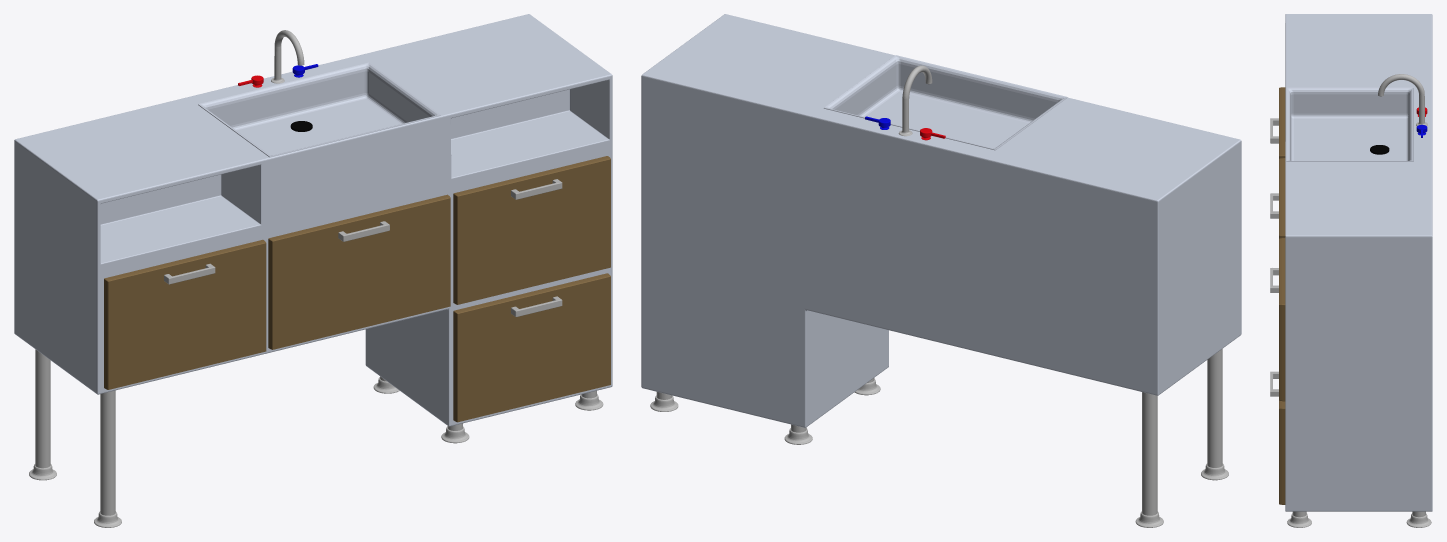
File: DishCounter 1.fbx
3 views of the same model, side by side, from view 1: azimuth 30°, elevation 25°; view 2: azimuth 150°, elevation 25°; view 3: azimuth 270°, elevation 25° (orthographic). The views are drawn at different scales.
Visible parts, largest first — view 1: GEO_Counter_base_001, GEO_Counter_Drawer_003, GEO_Counter_Drawer_004, GEO_Counter_Drawer_005, GEO_Counter_Drawer_001, GEO_Counter_leg_001, GEO_Counter_leg_002, GEO_Counter_Sink_001; view 2: GEO_Counter_base_001, GEO_Counter_leg_002, GEO_Counter_leg_001, GEO_Counter_Sink_001; view 3: GEO_Counter_base_001, GEO_Counter_Drawer_005, GEO_Counter_Drawer_001, GEO_Counter_Sink_001, GEO_Counter_Drawer_003, GEO_Counter_Drawer_004, GEO_Counter_leg_004, GEO_Counter_leg_006.
Boxes of the visible parts, x1=… form: GEO_Counter_base_001: x1=14, y1=14, x2=612, y2=426; GEO_Counter_Drawer_003: x1=268, y1=194, x2=450, y2=349; GEO_Counter_Drawer_004: x1=104, y1=239, x2=266, y2=389; GEO_Counter_Drawer_005: x1=453, y1=156, x2=610, y2=304; GEO_Counter_Drawer_001: x1=453, y1=273, x2=610, y2=422; GEO_Counter_leg_001: x1=94, y1=390, x2=121, y2=527; GEO_Counter_leg_002: x1=29, y1=349, x2=56, y2=480; GEO_Counter_Sink_001: x1=271, y1=30, x2=304, y2=83; GEO_Counter_base_001: x1=641, y1=14, x2=1241, y2=427; GEO_Counter_leg_002: x1=1135, y1=392, x2=1163, y2=527; GEO_Counter_leg_001: x1=1201, y1=349, x2=1228, y2=480; GEO_Counter_Sink_001: x1=898, y1=65, x2=932, y2=136; GEO_Counter_base_001: x1=1285, y1=14, x2=1432, y2=511; GEO_Counter_Drawer_005: x1=1279, y1=238, x2=1285, y2=401; GEO_Counter_Drawer_001: x1=1279, y1=400, x2=1285, y2=504; GEO_Counter_Sink_001: x1=1378, y1=74, x2=1427, y2=125; GEO_Counter_Drawer_003: x1=1279, y1=158, x2=1285, y2=238; GEO_Counter_Drawer_004: x1=1279, y1=87, x2=1285, y2=158; GEO_Counter_leg_004: x1=1287, y1=511, x2=1311, y2=527; GEO_Counter_leg_006: x1=1406, y1=511, x2=1431, y2=527.
Size of the model in its own units: 44.55 by 104 by 144.
